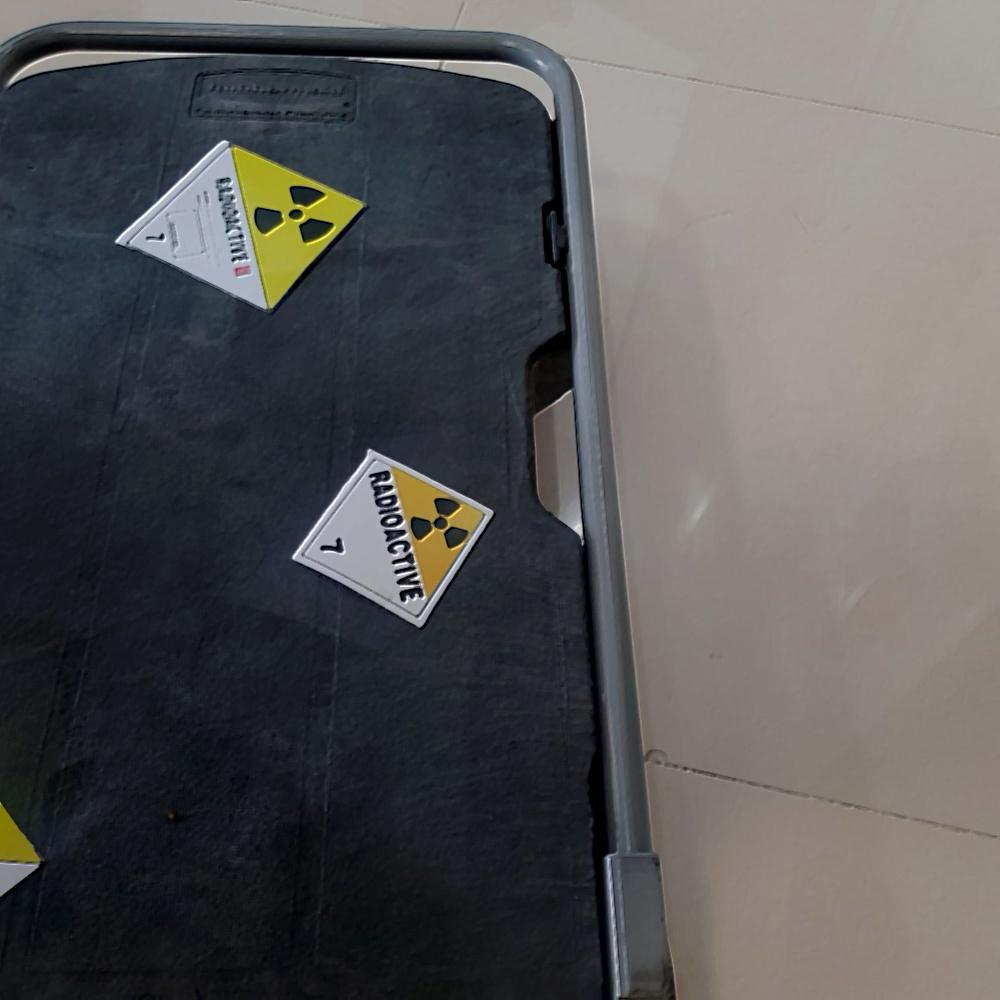radioactive: (124, 140, 376, 316), (287, 445, 501, 635)
